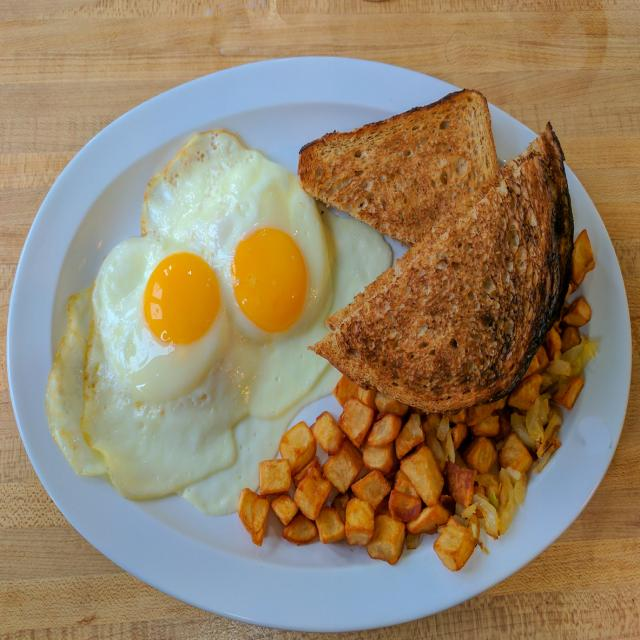Bread: (312, 127, 572, 413), (298, 92, 499, 245)
Egg: (142, 132, 391, 418), (82, 237, 251, 499)
